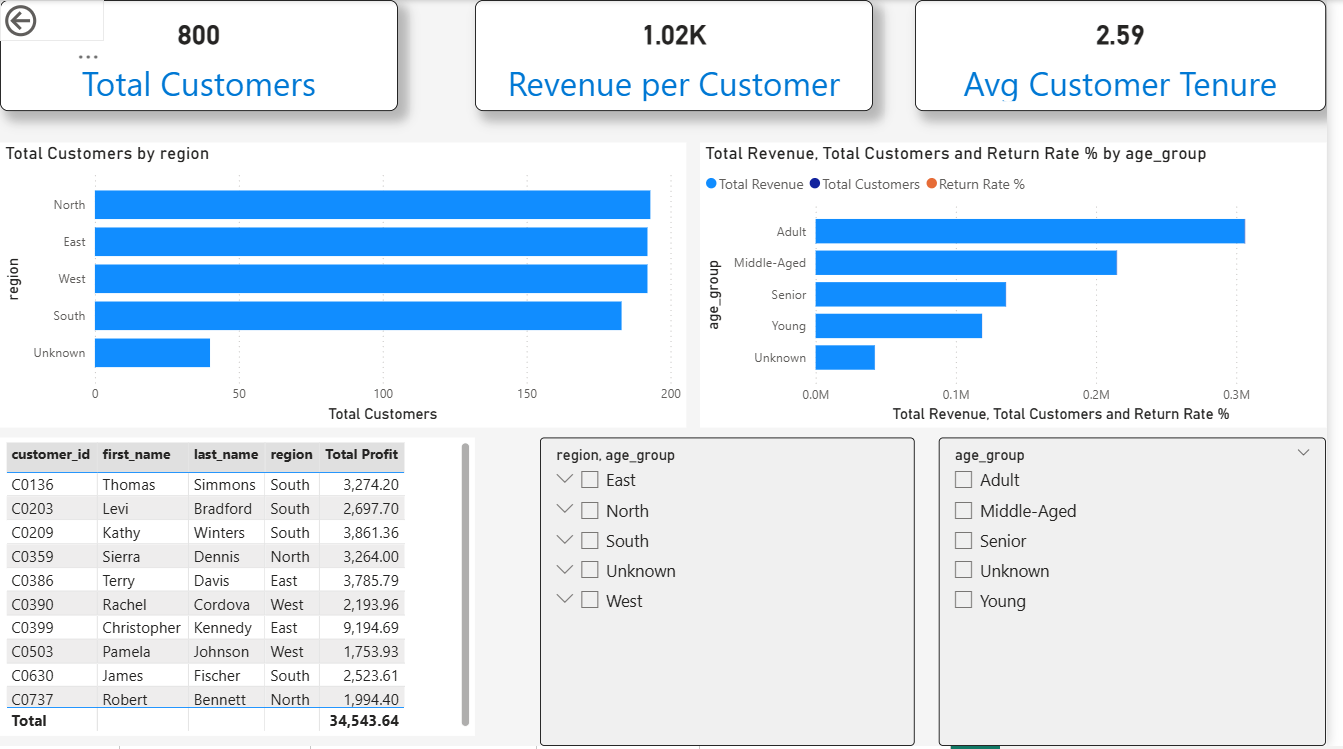

This screenshot's page, from the dashboard's own definition file:
{"tool":"powerbi","page":{"name":"CUSTOMER INSIGHT","canvas":[1280,720],"ordinal":1},"visuals":[{"type":"card","fields":{"Values":["sql_customers.Total Customers"]},"box":[0,0,384.2,107],"z":0},{"type":"card","fields":{"Values":["sql_sales.Revenue per Customer"]},"box":[458.3,0,384.2,107],"z":1000},{"type":"actionButton","box":[0,0,100,40],"z":2000},{"type":"card","fields":{"Values":["sql_customers.Avg Customer Tenure"]},"box":[883.4,0,396.6,107],"z":3000},{"type":"barChart","fields":{"Category":["sql_customers.region"],"Y":["sql_customers.Total Customers"]},"box":[0,137.5,662.3,275.1],"z":4000},{"type":"barChart","fields":{"Category":["sql_customers.age_group"],"Y":["sql_sales.Total Revenue","sql_customers.Total Customers","sql_returns.Return Rate %"]},"box":[675.6,137.5,604.4,275.1],"z":5000},{"type":"tableEx","fields":{"Values":["sql_customers.customer_id","sql_customers.first_name","sql_customers.last_name","sql_customers.region","sql_sales.Total Profit"]},"box":[0,422.3,458.4,288.3],"z":6000},{"type":"slicer","fields":{"Values":["sql_customers.age_group"]},"box":[906,422.3,374,298],"z":7000},{"type":"slicer","fields":{"Values":["sql_customers.region","sql_customers.age_group"]},"box":[521.2,422.3,361.9,298],"z":8000}]}

Visuals, with their boxes in screenshot pixels (x1, y1, x2, y2), scaled from the page's 1280x720 canvas onto the 1343x749 screenshot:
card - sql_customers.Total Customers: 0/0/403/111
card - sql_sales.Revenue per Customer: 481/0/884/111
actionButton: 0/0/105/42
card - sql_customers.Avg Customer Tenure: 927/0/1342/111
barChart - sql_customers.region x sql_customers.Total Customers: 0/143/695/429
barChart - sql_customers.age_group x sql_sales.Total Revenue: 709/143/1342/429
tableEx - sql_customers.customer_id x sql_customers.first_name: 0/439/481/739
slicer - sql_customers.age_group: 951/439/1342/748
slicer - sql_customers.region x sql_customers.age_group: 547/439/927/748
